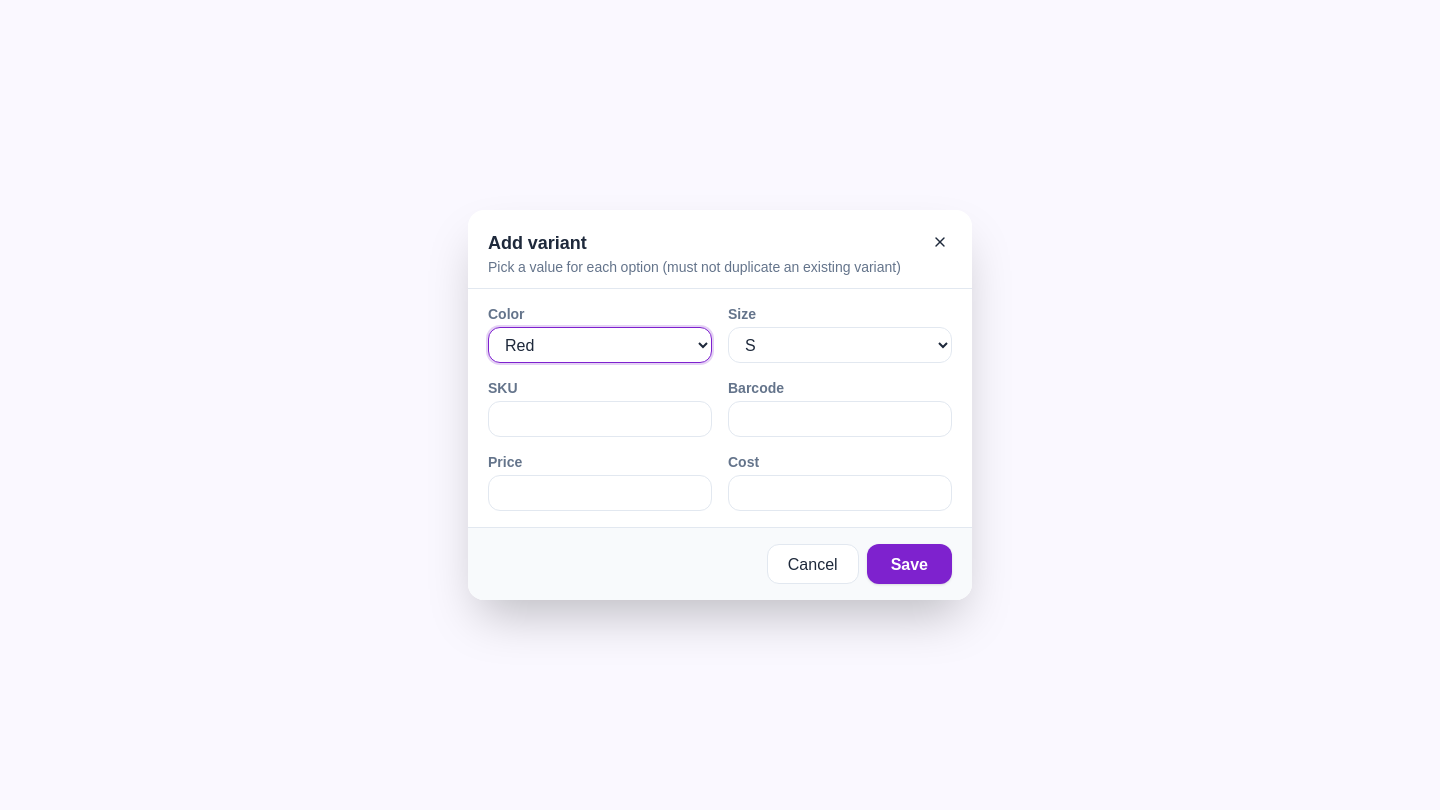
Scenario: AddVariantDialog › rejects an option combination that already exists, naming it, without posting
// defaults are Red / S, which TEE-R-S already is
Type "TEE-X" into the field labelled "SKU" at point(600, 419), box left=488, top=401, right=712, bottom=437
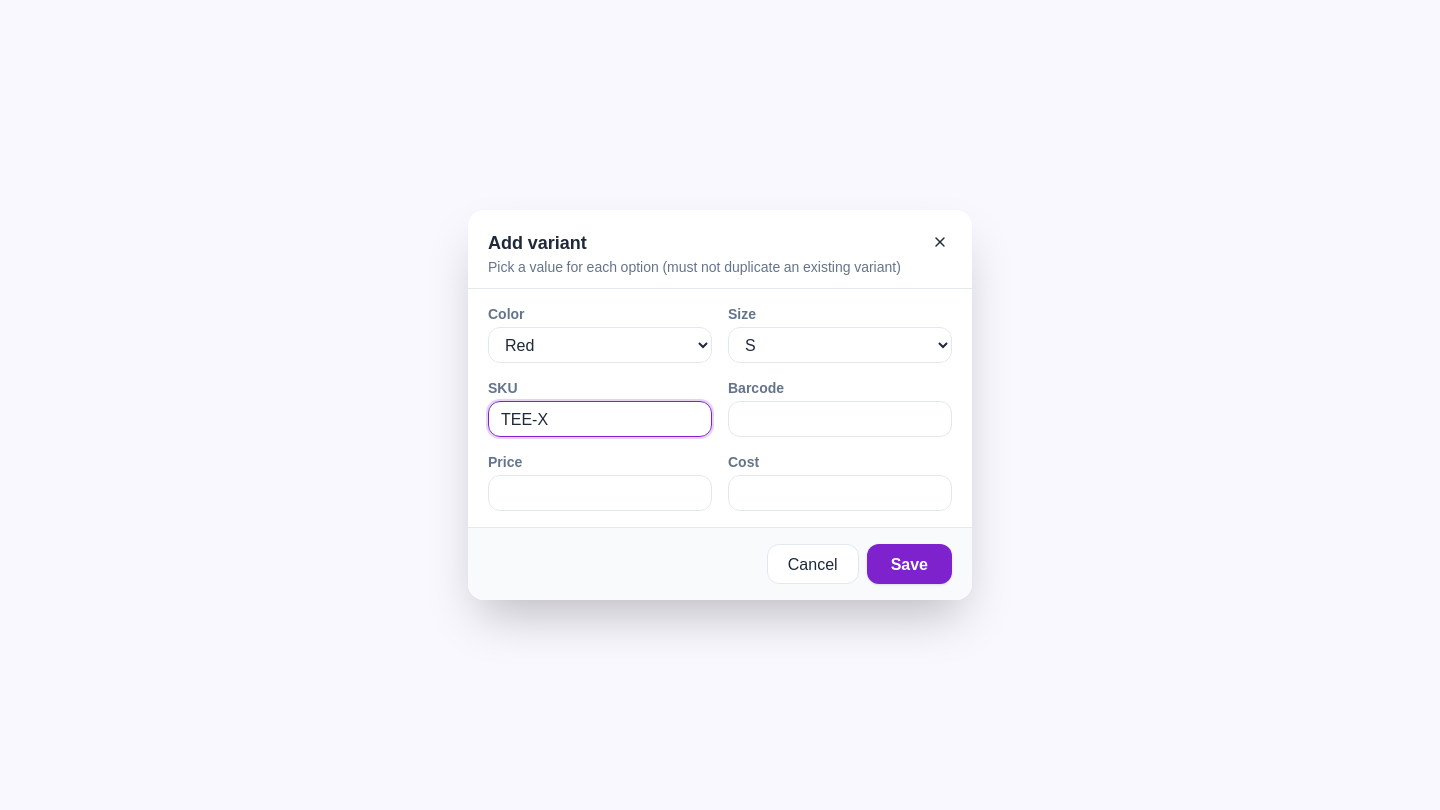
Type "100" into the field labelled "Price" at point(600, 493), box left=488, top=475, right=712, bottom=511
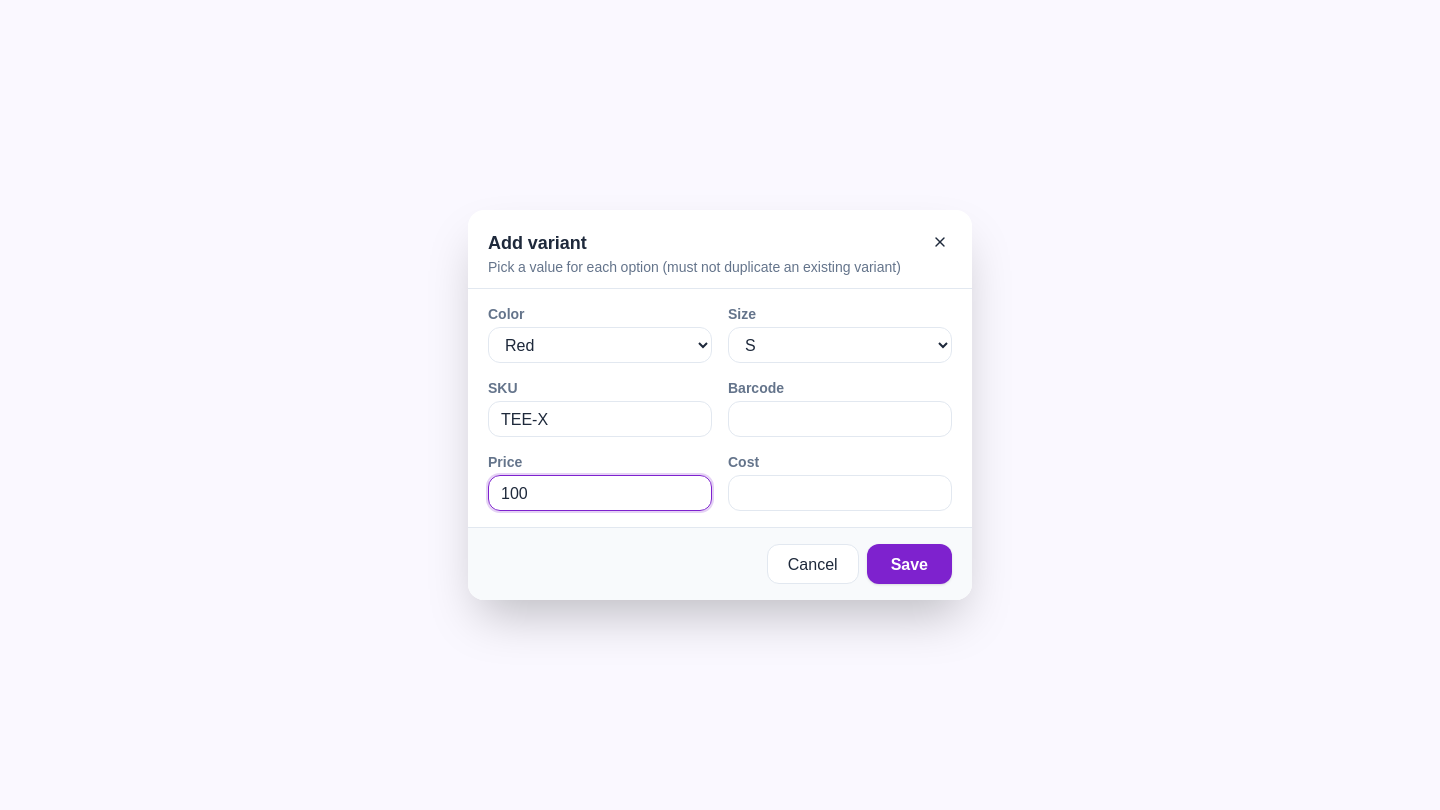
Click the button "Save" at point(909, 564), box left=867, top=544, right=952, bottom=584
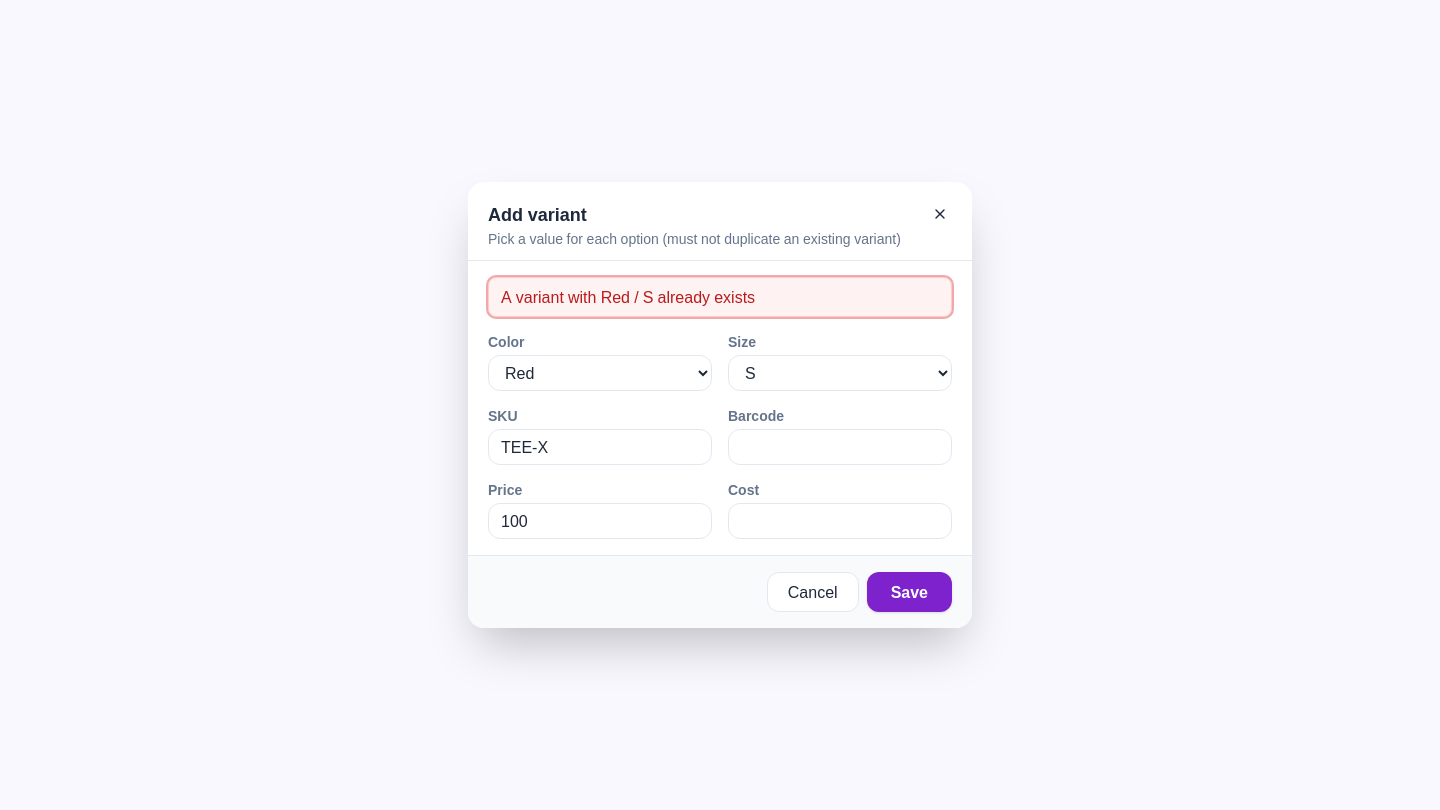
Expected: the message reads "A variant with Red / S already exists", left=501, top=284, right=755, bottom=310
